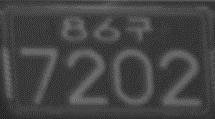0: (111, 48, 154, 106)
2: (159, 48, 202, 108), (66, 47, 110, 105)
6: (92, 16, 120, 43)
7: (20, 45, 58, 105)
8: (60, 15, 87, 41)
구: (126, 15, 152, 42)
